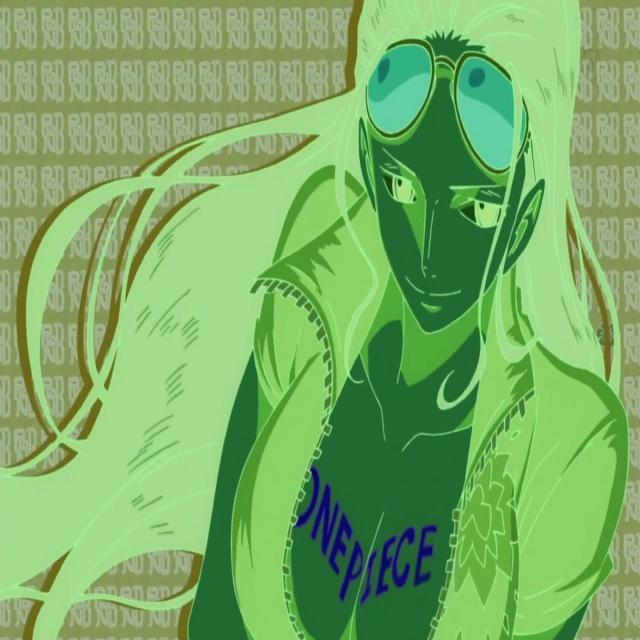Robin: (0, 0, 630, 640)
